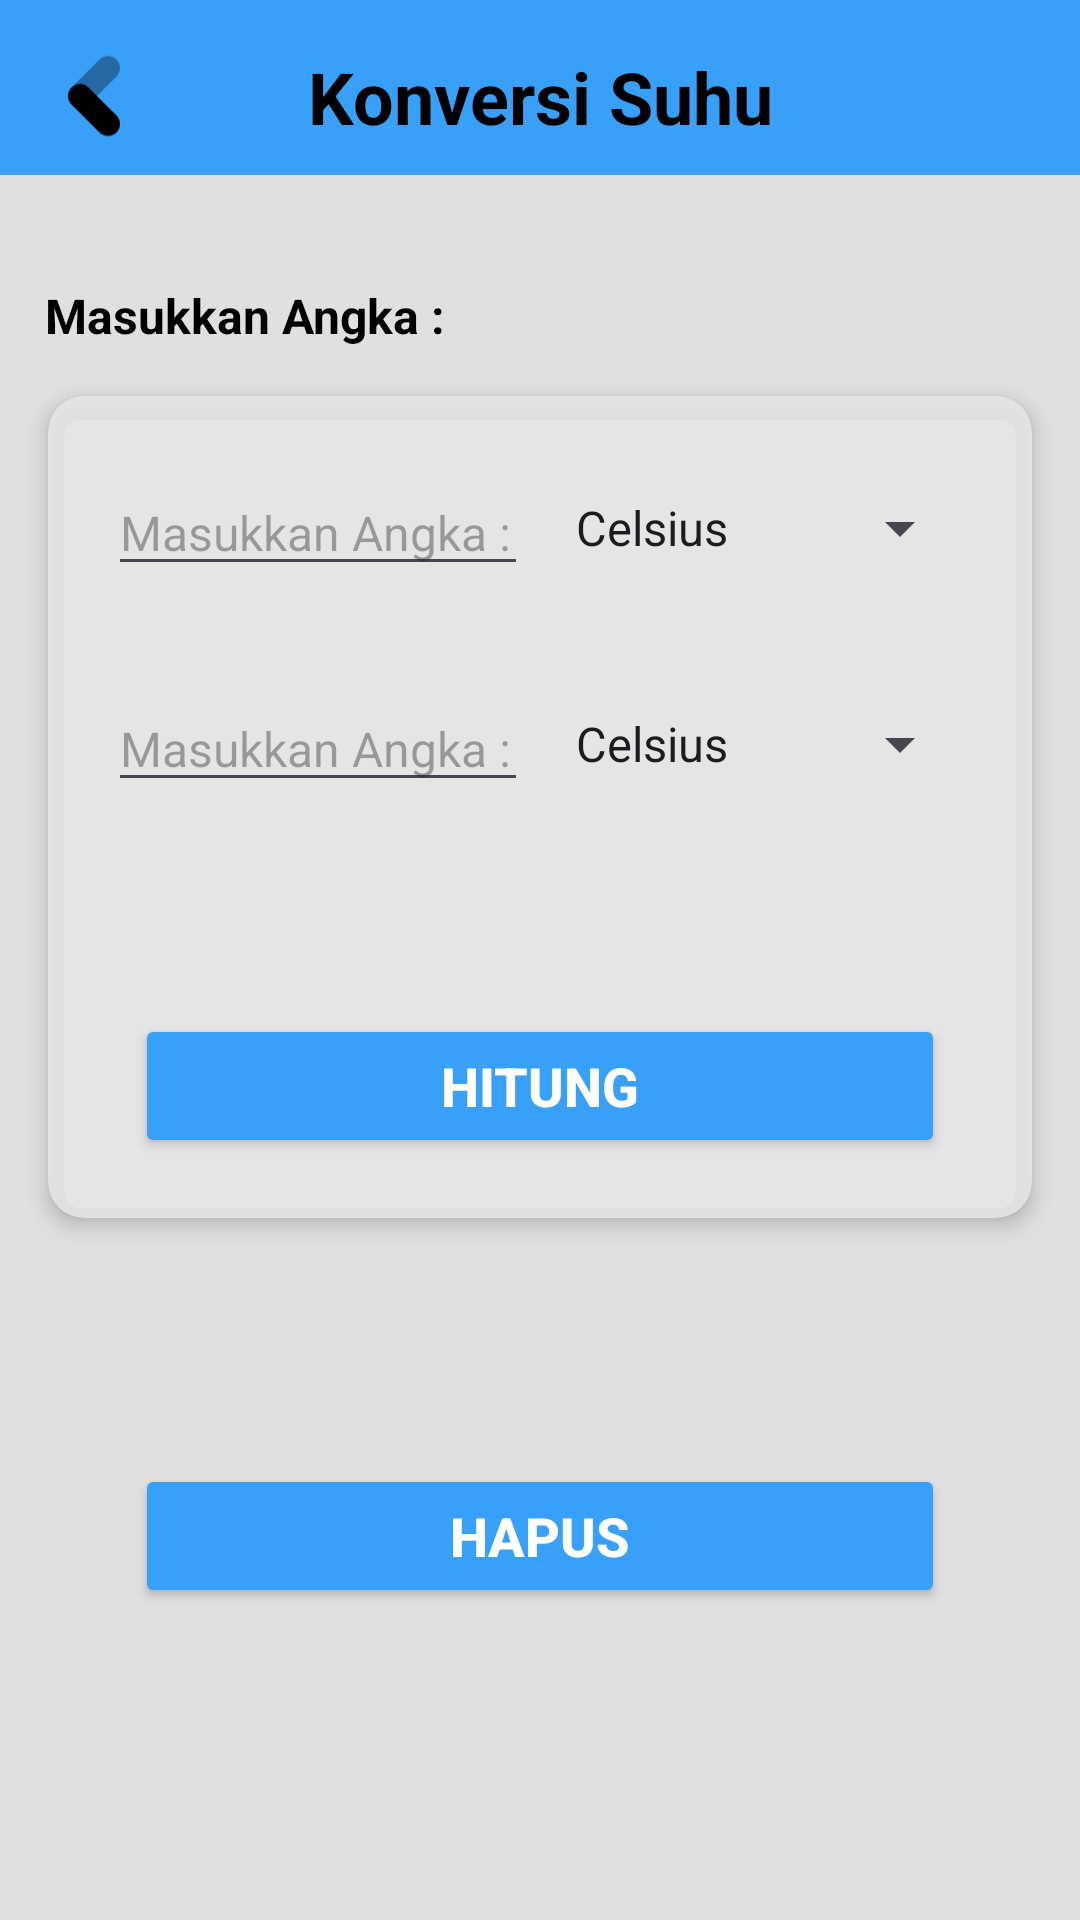

Icons on this 1080x1920 Android screen, each with the point to tap as (x,y):
Tombol kembali: (93,96)
